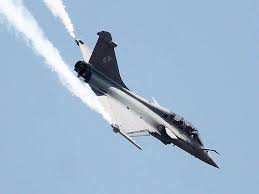fighter: (69, 28, 225, 173)
